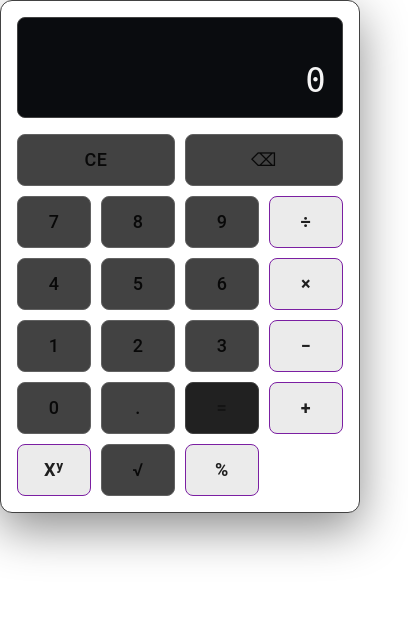
Test: Calculator › shows backend error messages
What coordinates should you click on to do the following:
click the button "8"
I would click on:
 (138, 222)
Its box is [101,196,175,248].
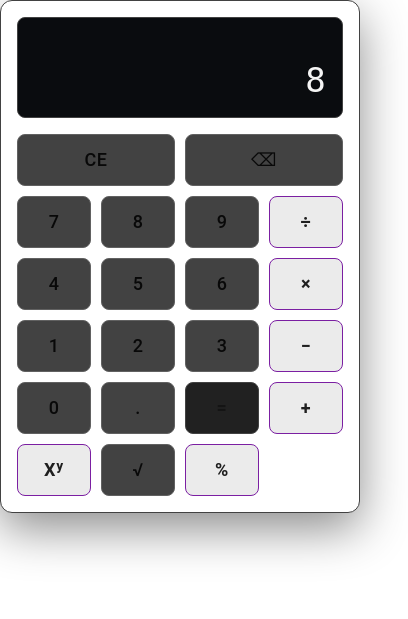
What coordinates should you click on to do the following:
click the button "÷"
I would click on:
 (306, 222)
Its box is [269,196,343,248].
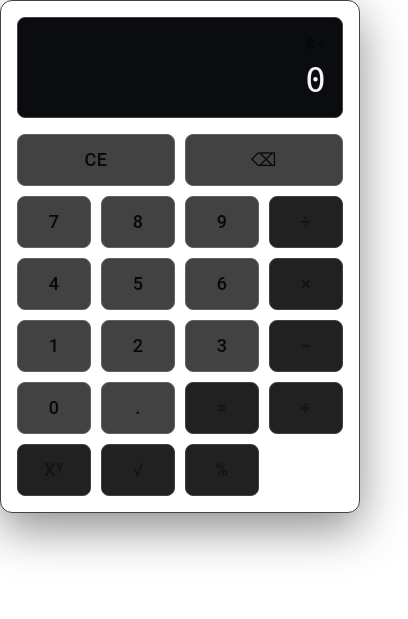
What coordinates should you click on to do the following:
click the button "0"
I would click on:
 (54, 408)
Its box is [17,382,91,434].
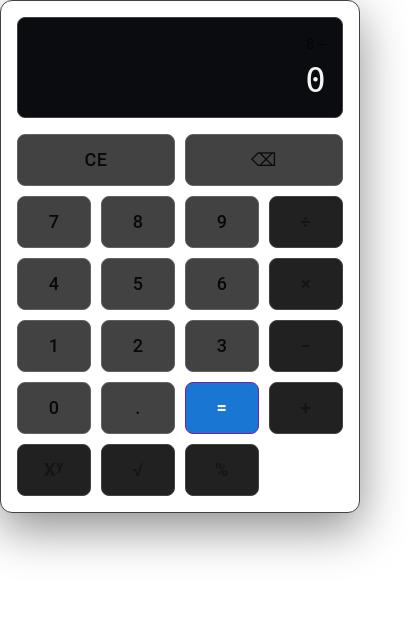
What coordinates should you click on to do the following:
click the button named "Equals"
I would click on:
 (222, 408)
Its box is [185,382,259,434].
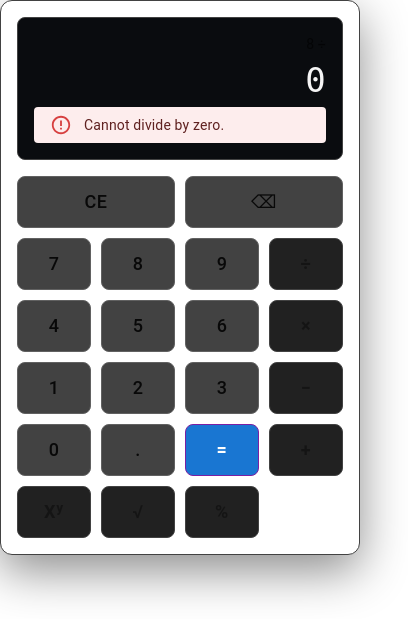
Now the message reads "Cannot divide by zero.", box [84,117,224,133]
